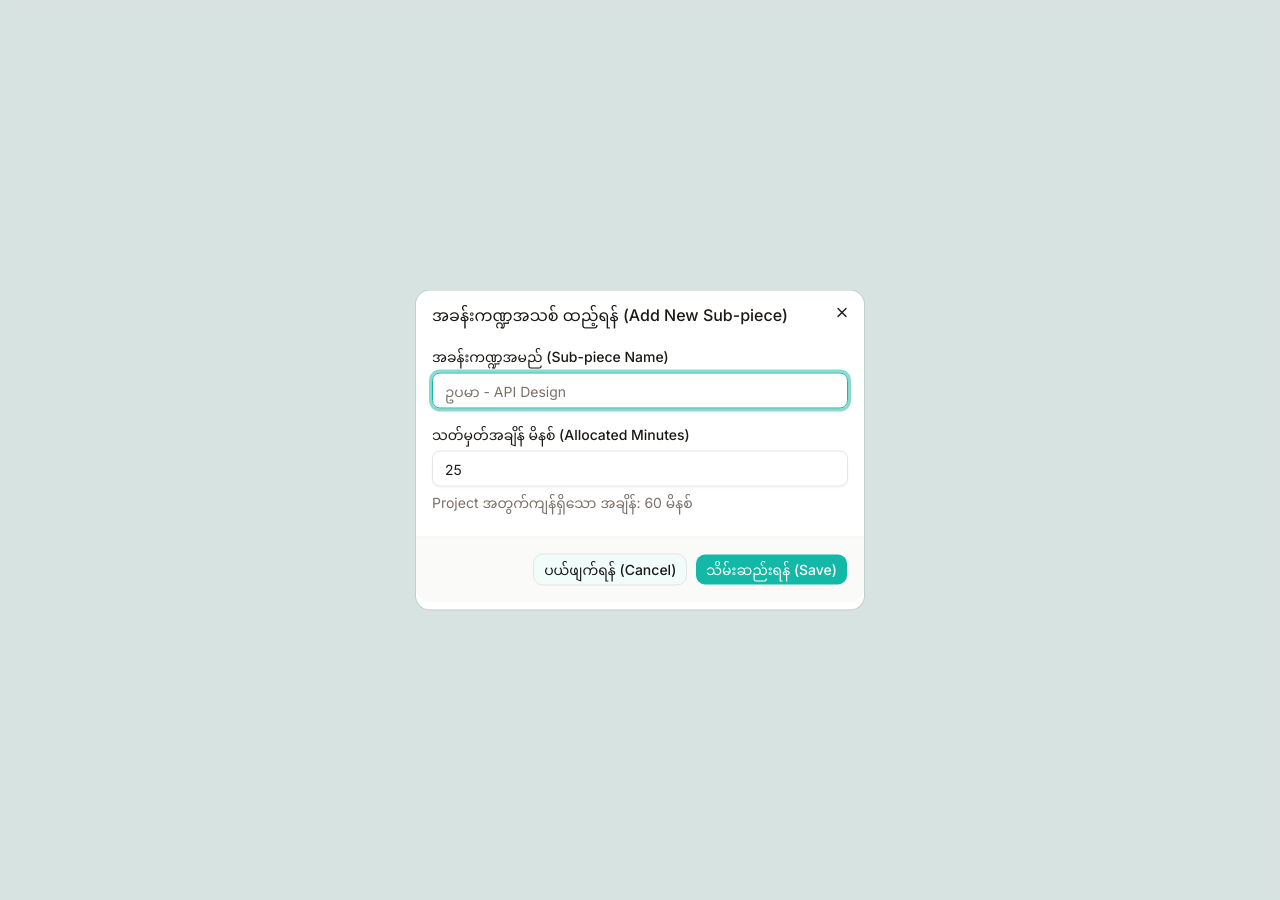
Test: SubPieceForm › shows validation error for empty name
Click the button "သိမ်းဆည်းရန် (Save)": (772, 570) [695,554,848,586]
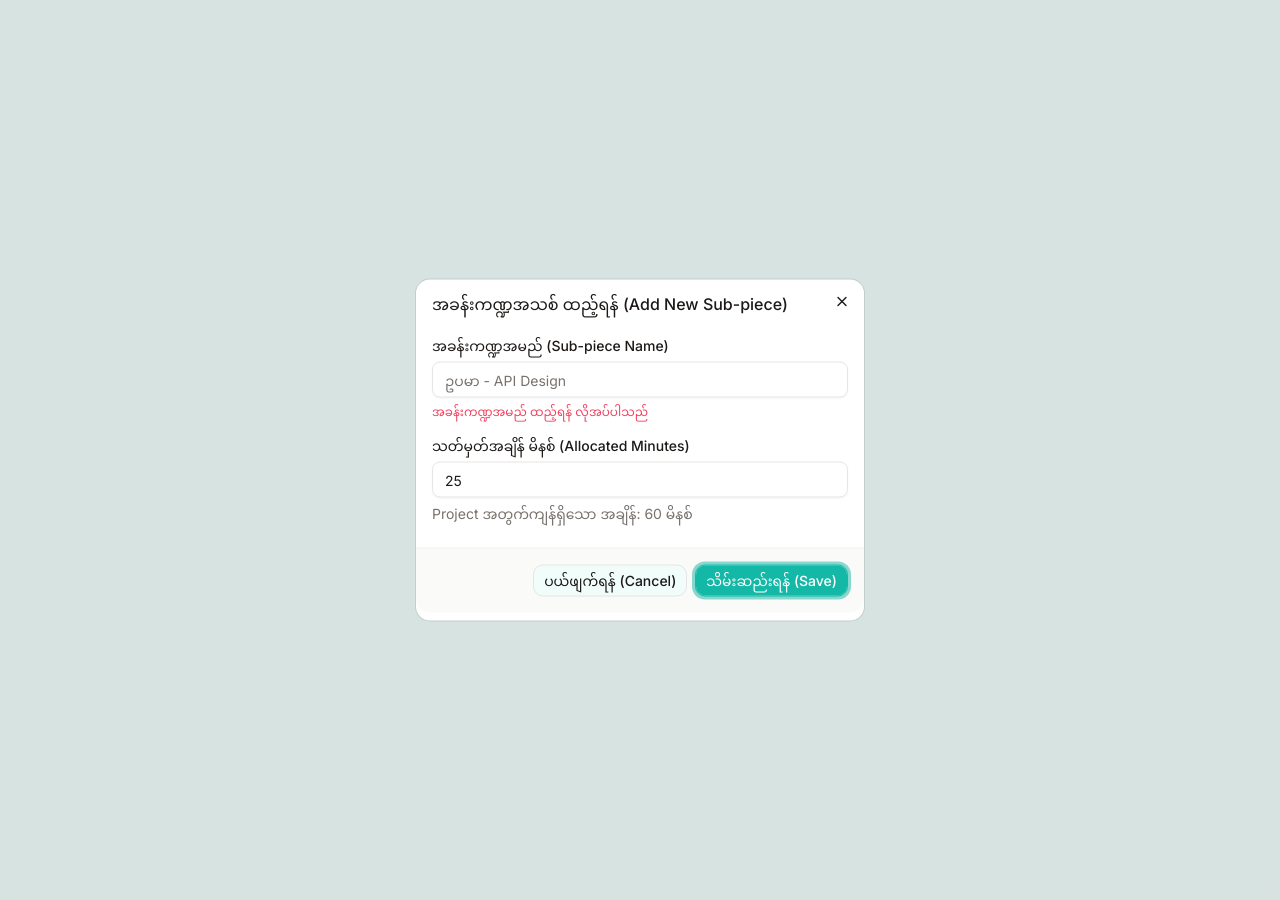
Expected: the text "အခန်းကဏ္ဍအမည် ထည့်ရန် လိုအပ်ပါသည်" is shown, [432,404,648,418]
